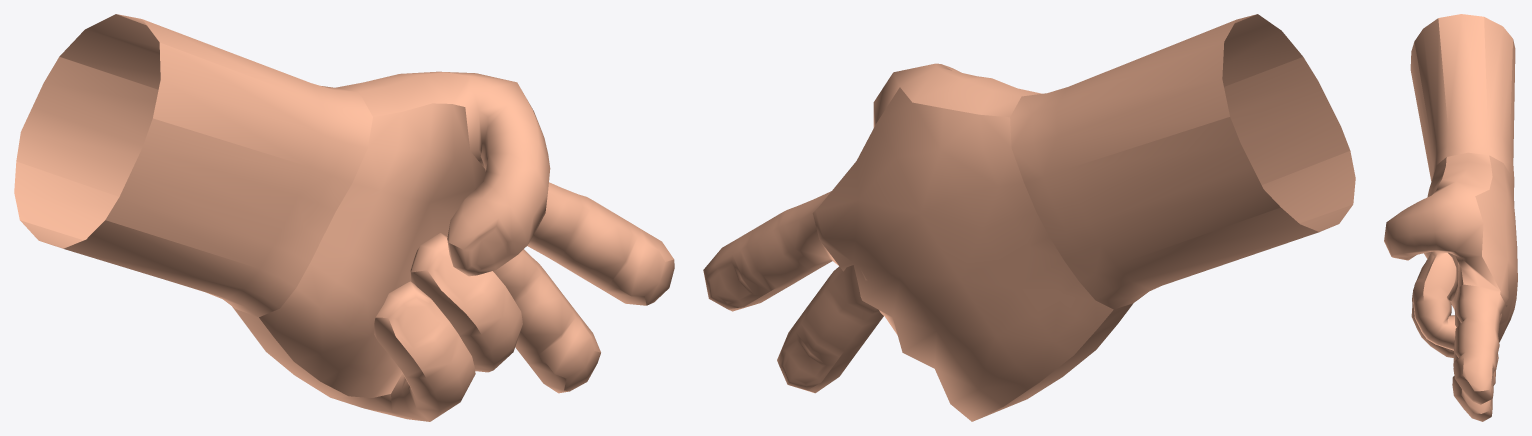
File: Scissors.glb
3 views of the same model, side by side, from view 1: azimuth 30°, elevation 25°; view 2: azimuth 150°, elevation 25°; view 3: azimuth 270°, elevation 25° (orthographic). The views are drawn at different scales.
Visible parts, largest first — view 1: 14; view 2: 14; view 3: 14.
Boxes of the visible parts, <box> form: 14: <box>14,14,674,421</box>; 14: <box>703,14,1355,421</box>; 14: <box>1384,14,1517,421</box>.
Size of the model in its own units: 42.75 by 30.65 by 13.15.
